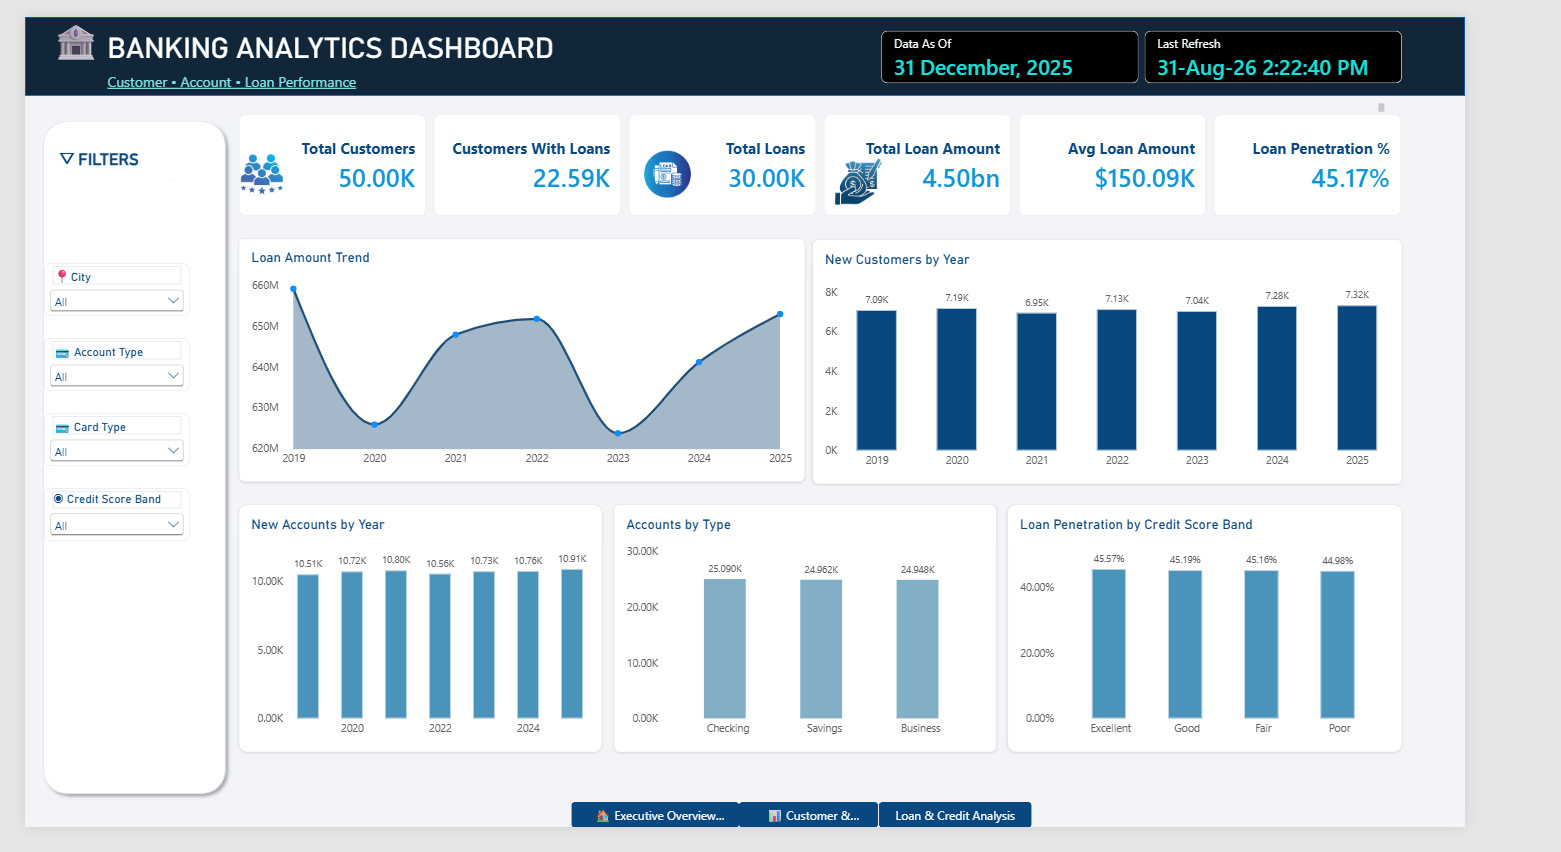

Layout of this report page (visuals, bound fields, positions):
{"tool":"powerbi","page":{"name":"Executive Overview dashboard","canvas":[1920,1080],"ordinal":0},"visuals":[{"type":"shape","box":[0,0,1920,105],"z":0},{"type":"textbox","title":"BANKING ANALYTICS DASHBOARD","box":[110,18,1702,108.1],"z":1000},{"type":"shape","box":[14.3,130.6,261.3,914.5],"z":2000},{"type":"textbox","title":"▽  FILTERS","box":[44.7,177.2,153.5,40.1],"z":3000},{"type":"textbox","box":[34.3,0,82.6,71.7],"z":4000},{"type":"slicer","fields":{"Values":["customers.city"]},"box":[25,328,195,70],"z":5000},{"type":"cardVisual","fields":{"Data":["analysis.Total Customers"]},"box":[285,130,250,135],"z":6000},{"type":"cardVisual","fields":{"Data":["analysis.oan Penetration %"]},"box":[1585,130,250,135],"z":7000},{"type":"cardVisual","fields":{"Data":["analysis.Customers With Loans"]},"box":[545,130,250,135],"z":8000},{"type":"cardVisual","fields":{"Data":["analysis.Total Loan Amount"]},"box":[1065,130,250,135],"z":9000},{"type":"cardVisual","fields":{"Data":["analysis.Total Loans"]},"box":[805,130,250,135],"z":10000},{"type":"cardVisual","fields":{"Data":["analysis.Average Loan Amount"]},"box":[1325,130,250,135],"z":11000},{"type":"slicer","fields":{"Values":["accounts.account_type"]},"box":[25,428,195,70],"z":12000},{"type":"slicer","fields":{"Values":["cards.card_type"]},"box":[25,528,195,70],"z":13000},{"type":"slicer","fields":{"Values":["customers.Credit Score Band"]},"box":[25,628,195,70],"z":14000},{"type":"lineChart","title":"Loan Amount Trend","fields":{"Category":["Calendar.Year"],"Y":["analysis.Total Loan Amount"]},"box":[285,295,755,325],"z":15000},{"type":"columnChart","title":"New Customers by Year","fields":{"Category":["Customer Calendar.Year"],"Y":["analysis.Total Customers"]},"box":[1050,296,786,326],"z":16000},{"type":"columnChart","title":"New Accounts by Year","fields":{"Category":["accounts Calendar.Year"],"Y":["analysis.Total Accounts"]},"box":[285,650,485,330],"z":17000},{"type":"clusteredColumnChart","title":"Accounts by Type","fields":{"Category":["accounts.account_type"],"Y":["analysis.Total Accounts"]},"box":[785,650,510,330],"z":18000},{"type":"columnChart","title":"Loan Penetration by Credit Score Band","fields":{"Category":["customers.Credit Score Band"],"Y":["analysis.Loan Penetration %"]},"box":[1310,650,526,330],"z":19000},{"type":"image","box":[286,162,58,96],"z":20000},{"type":"image","box":[1080,188,62,62],"z":21000},{"type":"image","box":[816,178,80,62],"z":22000},{"type":"cardVisual","fields":{"Data":["analysis.Data As Of","Min(Refresh Info.Last Refresh)"]},"box":[1142,18,694,70],"z":23000},{"type":"actionButton","box":[728.4,1046,224,34],"z":24000},{"type":"actionButton","box":[952.4,1046,186,34],"z":25000},{"type":"actionButton","box":[1138.4,1046,204,34],"z":26000}]}

Visuals, with their boxes on the page's 1920x1080 design canvas (x1, y1, x2, y2). These are canvas units, not pixel positions in the 1561x852 screenshot, which may show the page scaled, cropped or inside an application window:
shape: select_region(0, 0, 1920, 105)
"BANKING ANALYTICS DASHBOARD" textbox: select_region(110, 18, 1812, 126)
shape: select_region(14, 131, 276, 1045)
"▽  FILTERS" textbox: select_region(45, 177, 198, 217)
textbox: select_region(34, 0, 117, 72)
slicer - customers.city: select_region(25, 328, 220, 398)
cardVisual - analysis.Total Customers: select_region(285, 130, 535, 265)
cardVisual - analysis.oan Penetration %: select_region(1585, 130, 1835, 265)
cardVisual - analysis.Customers With Loans: select_region(545, 130, 795, 265)
cardVisual - analysis.Total Loan Amount: select_region(1065, 130, 1315, 265)
cardVisual - analysis.Total Loans: select_region(805, 130, 1055, 265)
cardVisual - analysis.Average Loan Amount: select_region(1325, 130, 1575, 265)
slicer - accounts.account_type: select_region(25, 428, 220, 498)
slicer - cards.card_type: select_region(25, 528, 220, 598)
slicer - customers.Credit Score Band: select_region(25, 628, 220, 698)
"Loan Amount Trend" lineChart: select_region(285, 295, 1040, 620)
"New Customers by Year" columnChart: select_region(1050, 296, 1836, 622)
"New Accounts by Year" columnChart: select_region(285, 650, 770, 980)
"Accounts by Type" clusteredColumnChart: select_region(785, 650, 1295, 980)
"Loan Penetration by Credit Score Band" columnChart: select_region(1310, 650, 1836, 980)
image: select_region(286, 162, 344, 258)
image: select_region(1080, 188, 1142, 250)
image: select_region(816, 178, 896, 240)
cardVisual - analysis.Data As Of x Min(Refresh Info.Last Refresh): select_region(1142, 18, 1836, 88)
actionButton: select_region(728, 1046, 952, 1080)
actionButton: select_region(952, 1046, 1138, 1080)
actionButton: select_region(1138, 1046, 1342, 1080)
